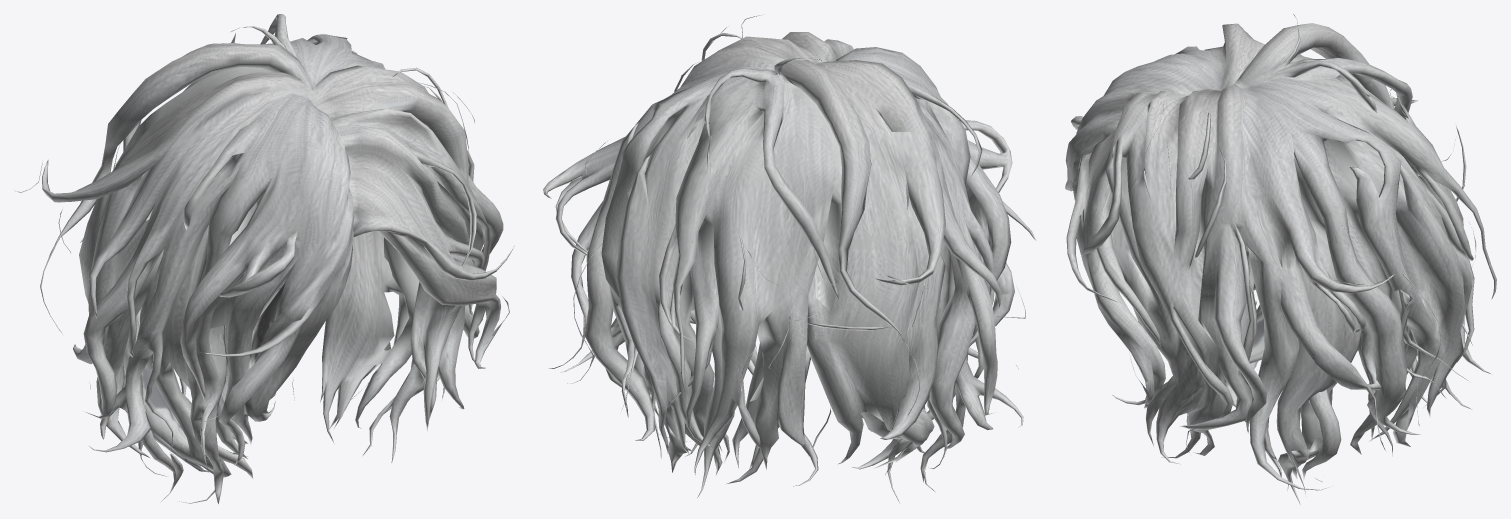
File: hair-2.glb
The picture shows the model from 3 angles, left to right: view 1: azimuth 30°, elevation 25°; view 2: azimuth 150°, elevation 25°; view 3: azimuth 270°, elevation 25°; orthographic projection.
Bounding box in the file's own units: 0.9409 × 0.9551 × 0.8569.
Materials: 1 (1 with a texture image).
